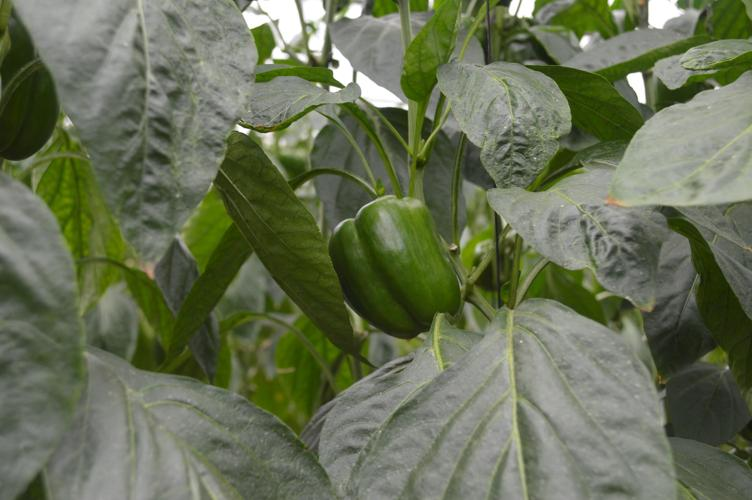BellPepper: (327, 193, 466, 335)
